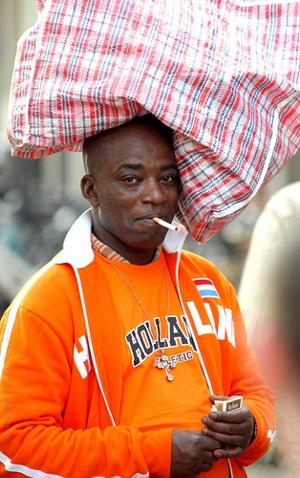person: (2, 115, 277, 478)
